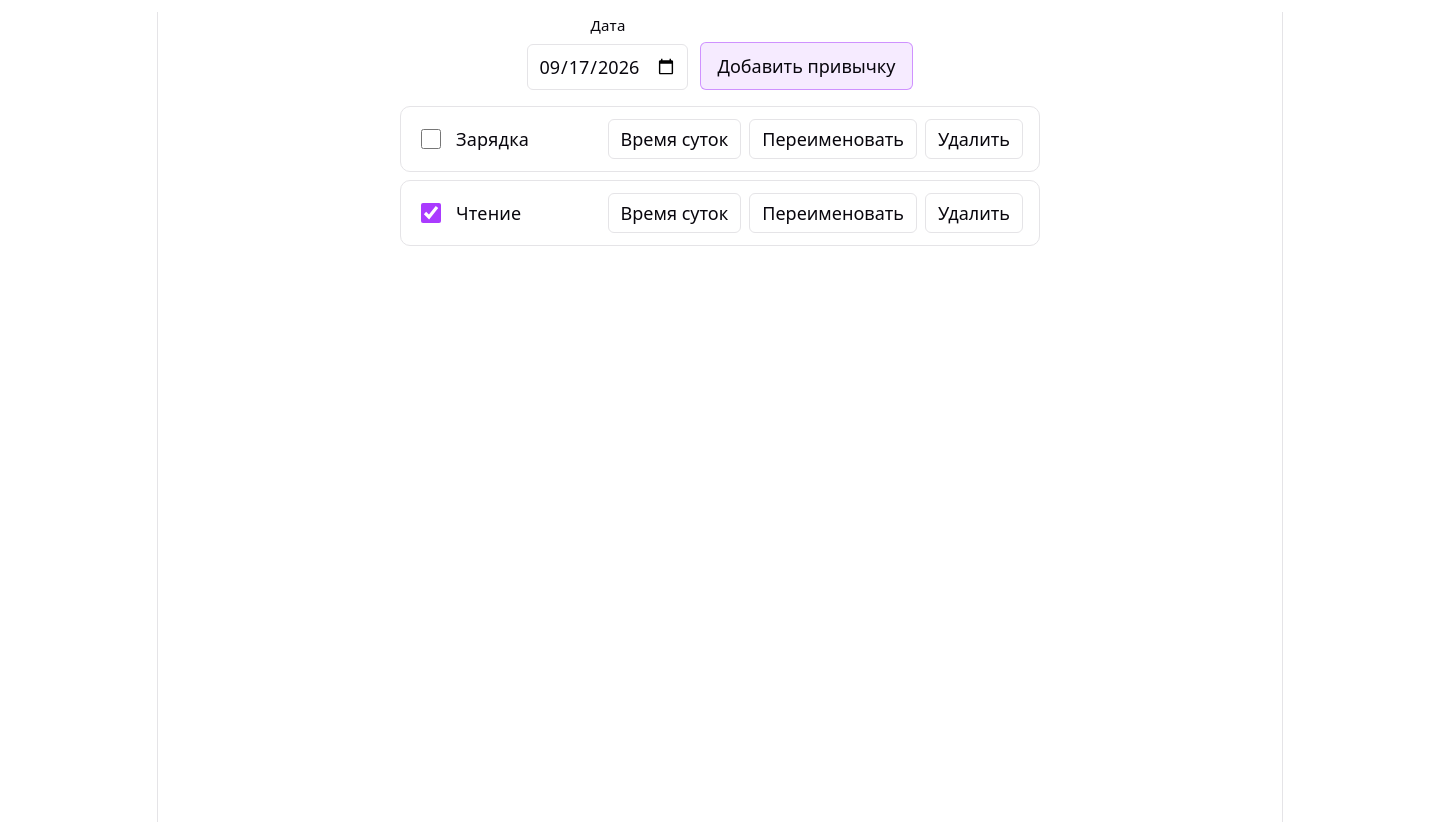
Test: HabitsTab › загружает привычки на выбранную прошлую дату
Expected: the text "Зарядка" is shown, x1=456 y1=126 x2=529 y2=152
Type "2026-09-10" into the date field labelled "Дата" at (608, 67), box x1=528 y1=44 x2=688 y2=90
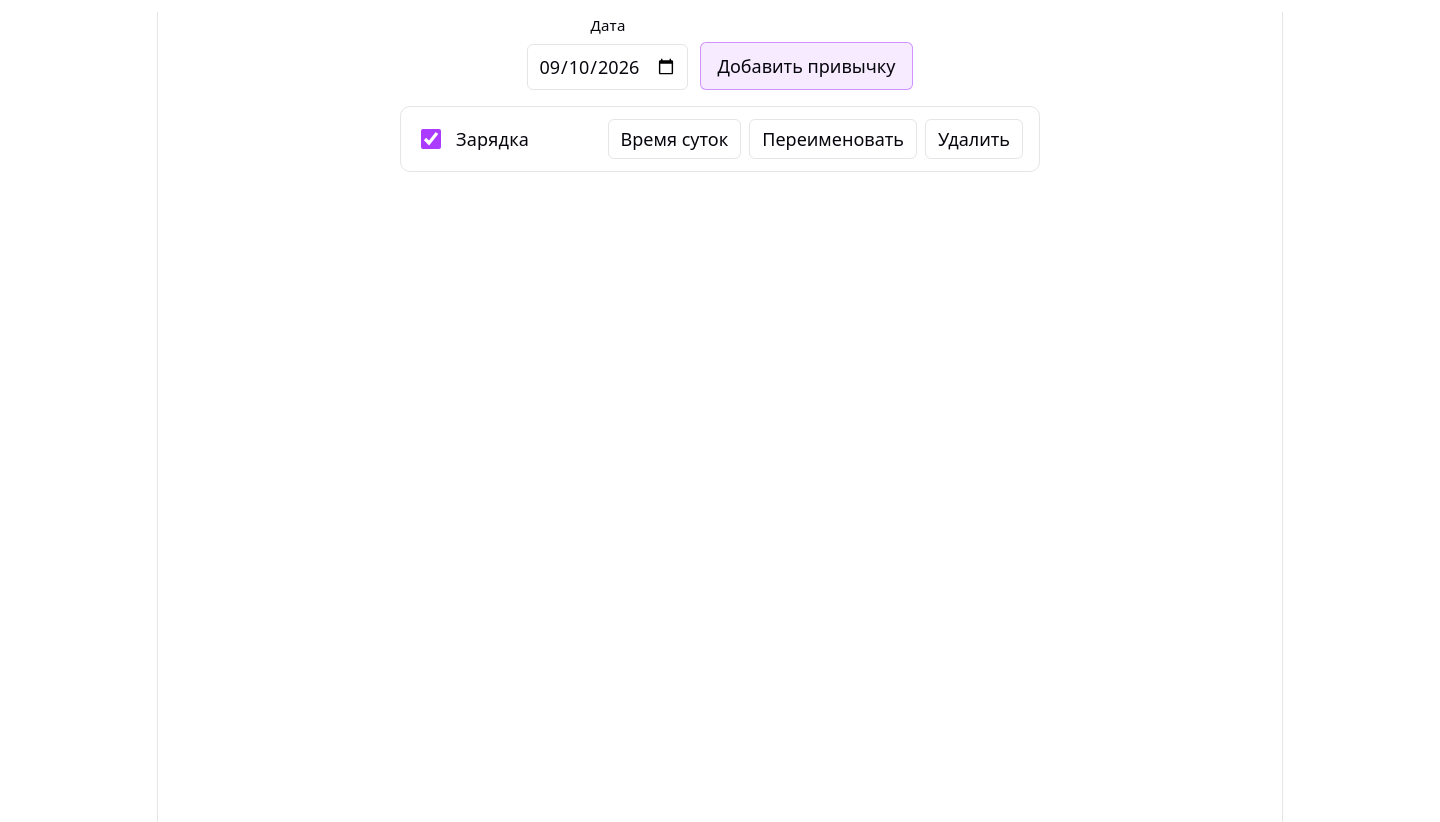
Expected: the checkbox labelled "Зарядка" is checked, x1=421 y1=129 x2=441 y2=149
